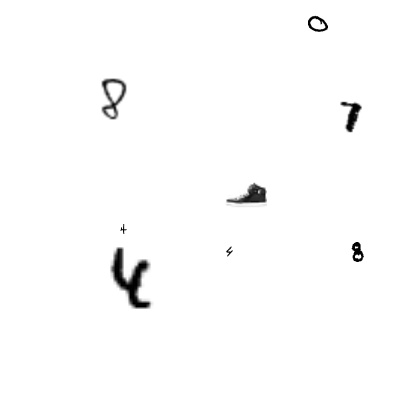0: (303, 10, 331, 38)
4: (87, 236, 171, 320), (116, 222, 130, 236), (222, 244, 236, 258)
7: (330, 93, 372, 135)
8: (84, 67, 140, 123), (343, 238, 371, 266)
Sneaker: (225, 174, 267, 216)
